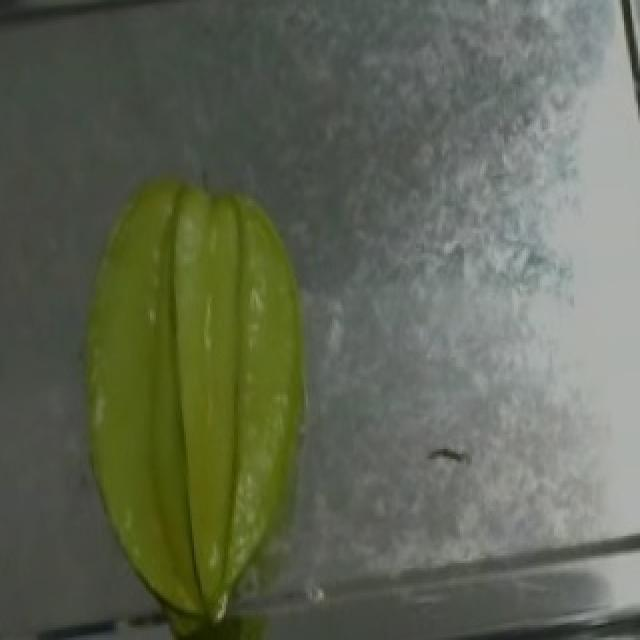fruit: (86, 152, 404, 616)
